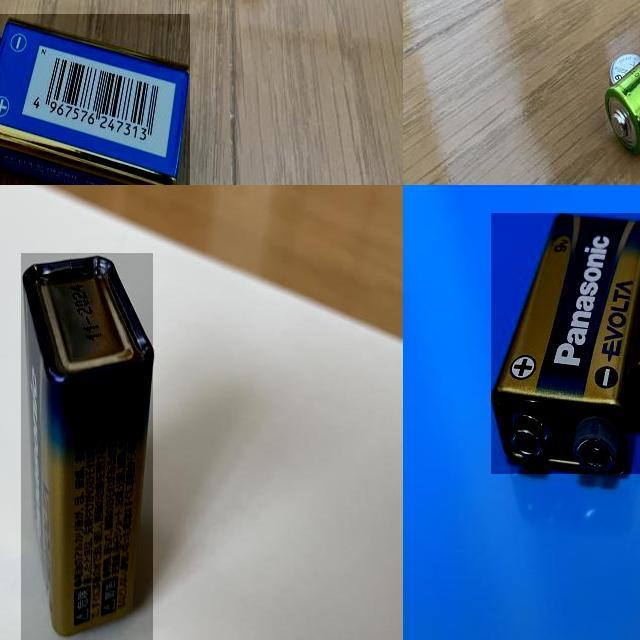9V: (21, 253, 153, 640), (490, 213, 640, 474), (0, 14, 189, 185)
